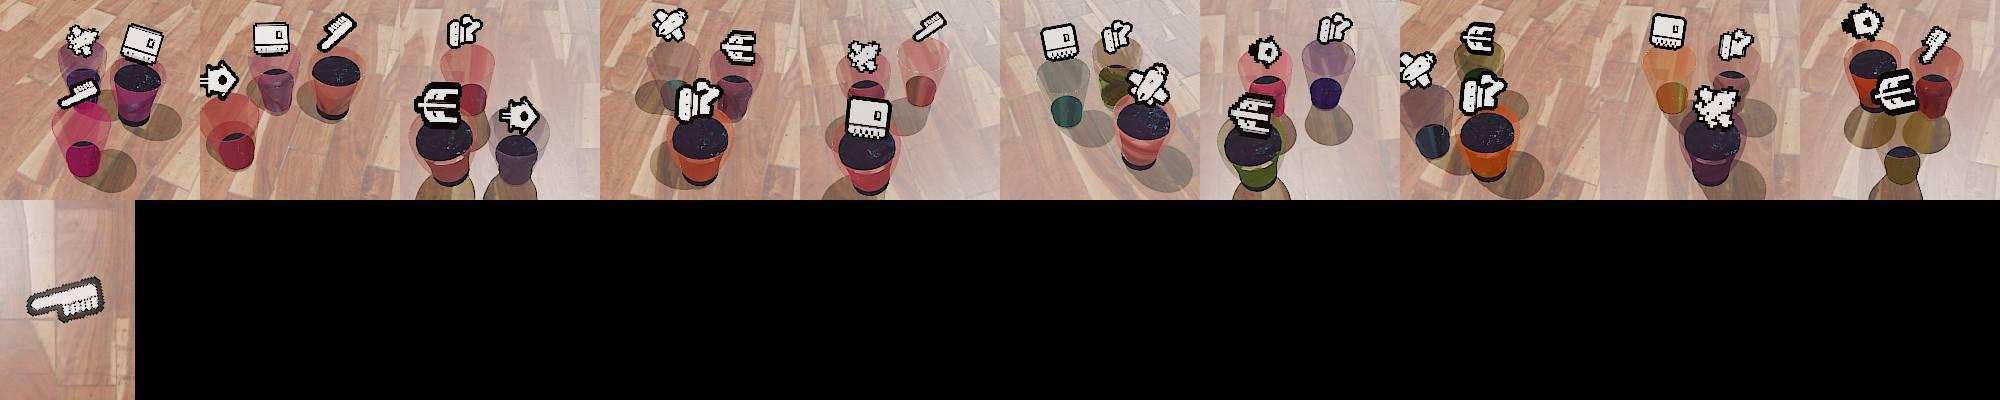icon: (25, 275, 108, 323), (1691, 83, 1740, 128), (414, 80, 464, 124), (1872, 68, 1919, 114), (846, 94, 892, 141), (674, 78, 720, 124), (1126, 62, 1173, 107), (1227, 92, 1275, 136), (1460, 71, 1507, 115), (119, 23, 166, 67), (197, 58, 240, 101), (497, 95, 541, 136), (1840, 3, 1884, 42), (317, 12, 357, 54), (1040, 23, 1080, 63), (1649, 12, 1687, 52), (1399, 49, 1436, 90), (56, 78, 101, 111), (252, 22, 291, 59), (720, 28, 758, 65), (1916, 25, 1951, 65), (445, 14, 483, 50), (652, 7, 689, 43), (1717, 27, 1755, 62), (1317, 12, 1355, 46), (65, 23, 100, 59), (846, 39, 882, 73), (1248, 34, 1283, 68), (912, 11, 948, 44), (1100, 19, 1134, 53), (1463, 21, 1496, 54)
